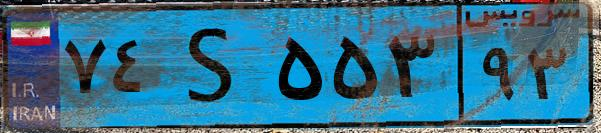3: (385, 28, 445, 110), (525, 38, 570, 115)
4: (110, 28, 158, 98)
5: (270, 28, 330, 110), (330, 28, 385, 110)
7: (57, 26, 110, 100)
9: (475, 38, 525, 113)
S: (158, 12, 270, 120)
